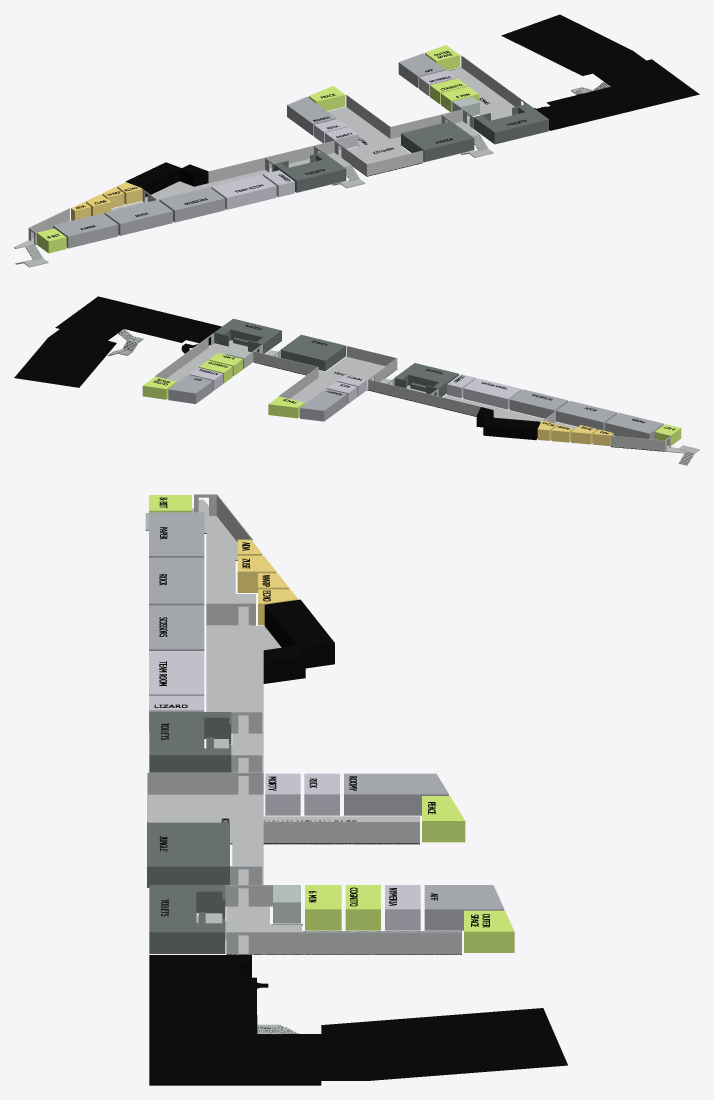
The model's file is campus_doors.glb.
3 views of the same model, one above another, from view 1: azimuth 30°, elevation 25°; view 2: azimuth 150°, elevation 25°; view 3: azimuth 270°, elevation 25° (orthographic). The views are drawn at different scales.
Parts seen in each view (by area): view 1: group_4, group_36, group_0.028, group_0.014, group_0.020, group_0.001, group_0.008, group_35, group_0.013, group_0.027, group_0.009, group_0.024 (+11 smaller); view 2: group_4, group_36, group_0.028, group_0.014, group_0.020, group_35, group_0.001, group_0.009, group_0.008, group_0.027, group_0.013, group_0.024 (+16 smaller); view 3: group_4, group_0.028, group_36, group_0.014, group_36.003, group_0.020, group_0.001, group_35, group_0.024, group_0.018, group_0.008, group_0.013 (+13 smaller).
Boxes of the visible parts, box(x1,y1,x2,y2) form: group_4: box(501, 14, 699, 130); group_36: box(29, 95, 478, 244); group_0.028: box(31, 67, 514, 243); group_0.014: box(401, 121, 474, 162); group_0.020: box(473, 104, 548, 144); group_0.001: box(274, 152, 346, 192); group_0.008: box(104, 200, 172, 235); group_35: box(125, 162, 208, 197); group_0.013: box(53, 213, 118, 248); group_0.027: box(159, 187, 224, 222); group_0.009: box(211, 174, 276, 209); group_0.024: box(287, 97, 336, 135); group_4: box(14, 296, 221, 387); group_36: box(253, 346, 670, 451); group_0.028: box(166, 341, 669, 448); group_0.014: box(280, 334, 345, 371); group_0.020: box(214, 318, 281, 353); group_35: box(476, 407, 540, 440); group_0.001: box(394, 363, 458, 396); group_0.009: box(463, 378, 521, 409); group_0.008: box(556, 401, 617, 430); group_0.027: box(509, 389, 568, 418); group_0.013: box(605, 412, 663, 439); group_0.024: box(300, 389, 347, 421); group_4: box(149, 955, 567, 1085); group_0.028: box(148, 516, 460, 953); group_36: box(147, 494, 419, 884); group_0.014: box(147, 822, 229, 887); group_36.003: box(205, 906, 461, 953); group_0.020: box(149, 885, 225, 953); group_0.001: box(149, 712, 231, 772); group_35: box(263, 599, 334, 683); group_0.024: box(344, 773, 448, 815); group_0.018: box(424, 885, 504, 930); group_0.008: box(149, 557, 204, 605); group_0.013: box(149, 512, 204, 557).
Size of the model in its own units: 135 by 5.64 by 41.2.
